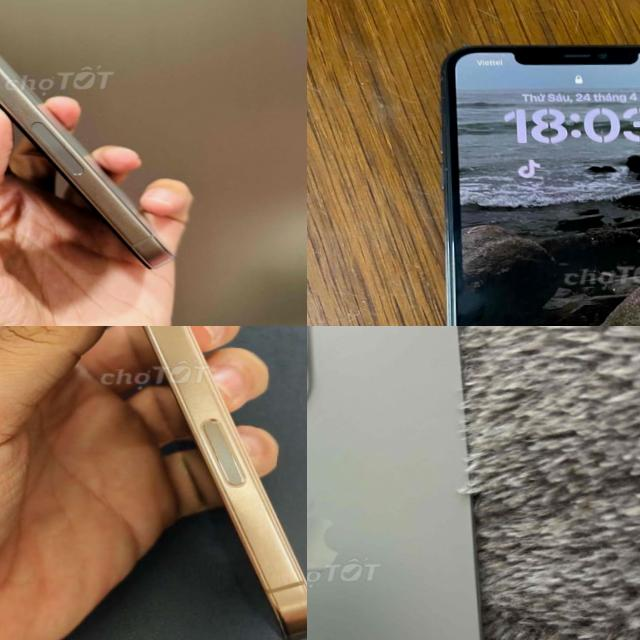gen_11: (425, 38, 640, 326)
gen_15: (307, 326, 502, 640), (0, 0, 193, 277)
gen_16: (143, 326, 307, 640)
